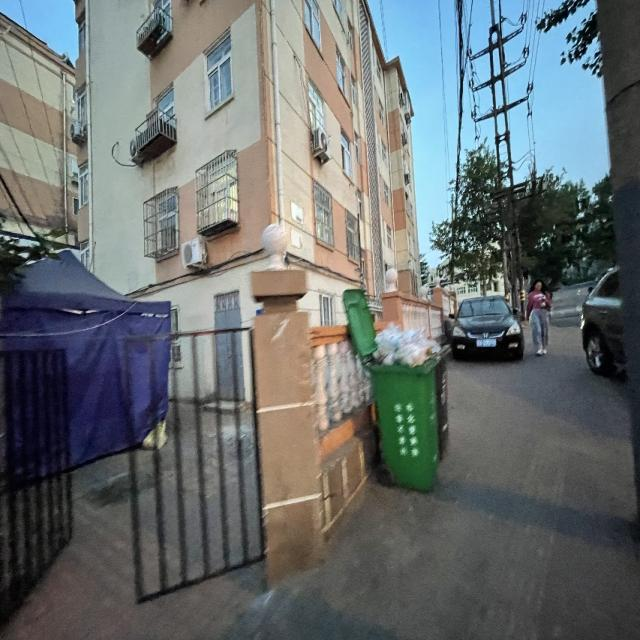overflow: (368, 322, 441, 491)
